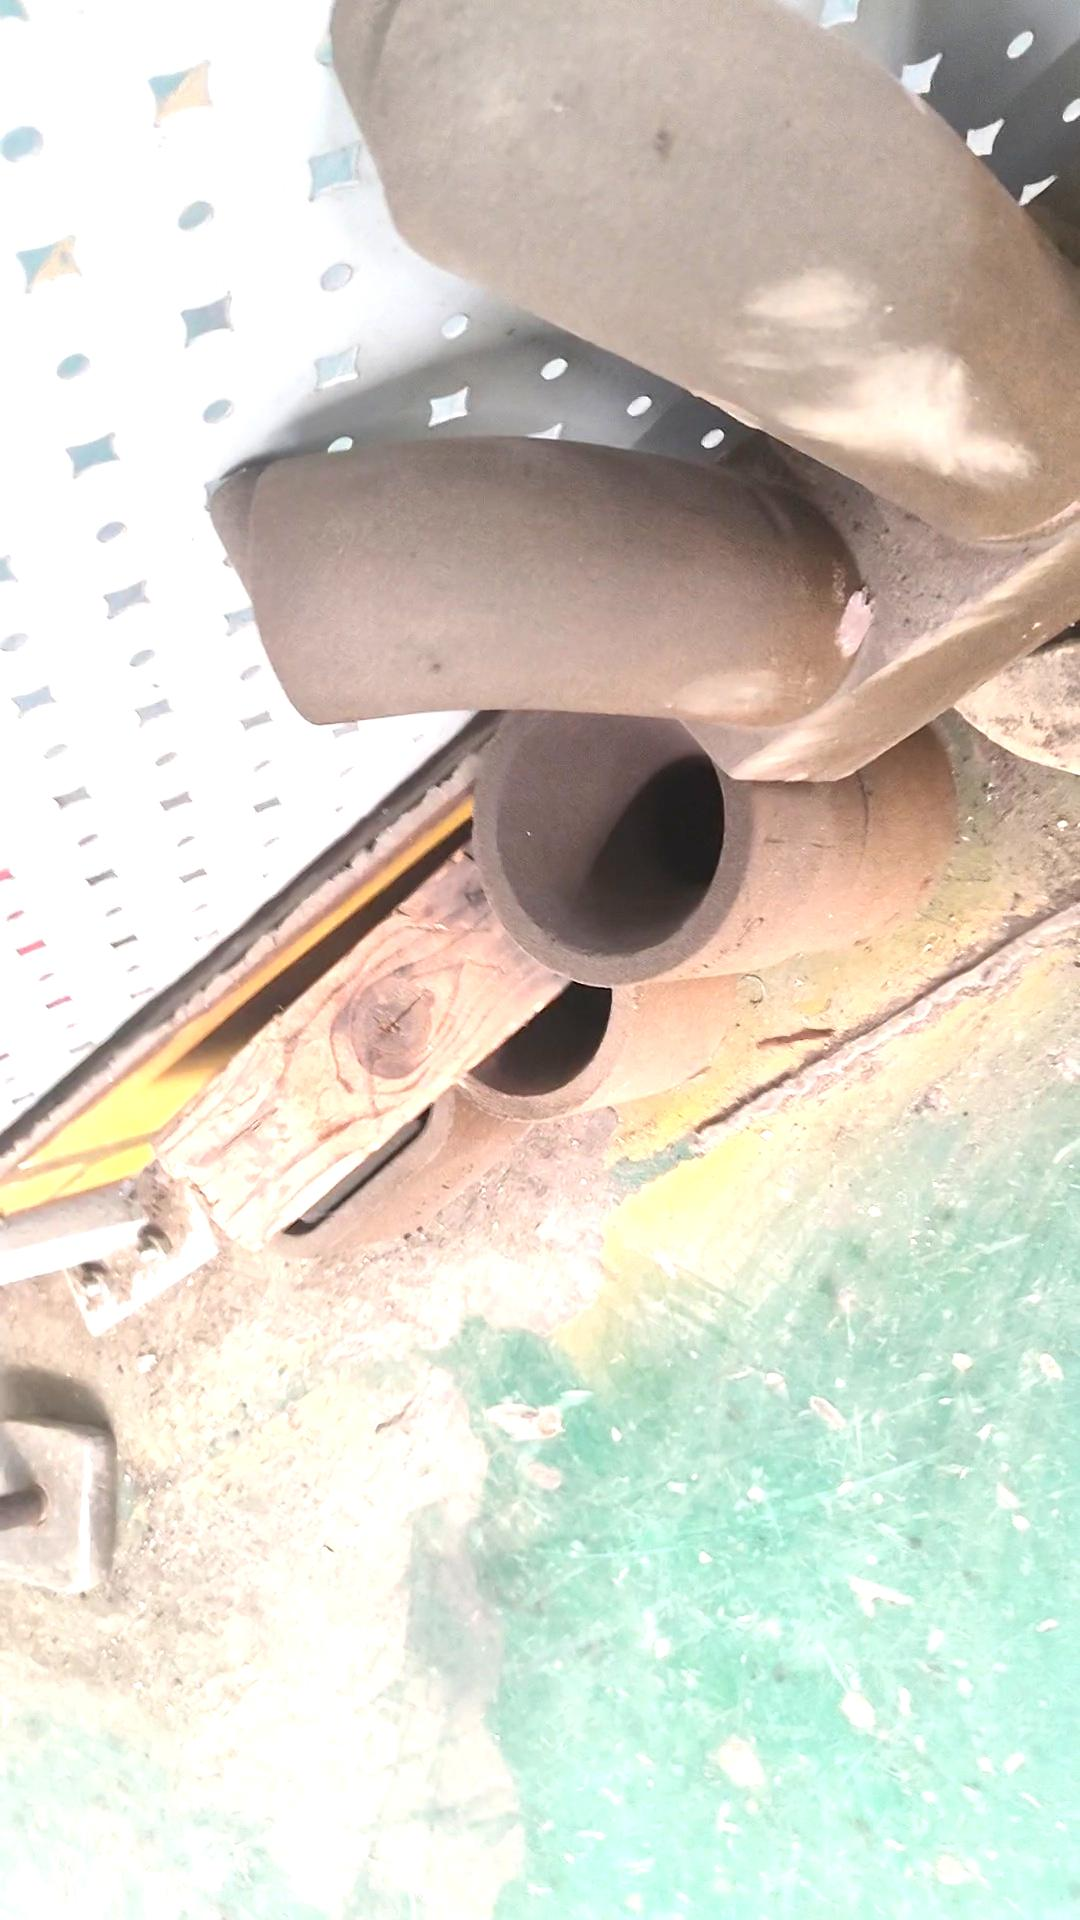pouring hole: (496, 699, 725, 953), (436, 913, 611, 1096)
